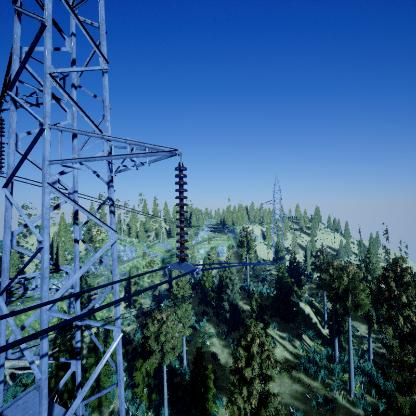insulator: (173, 163, 191, 264)
